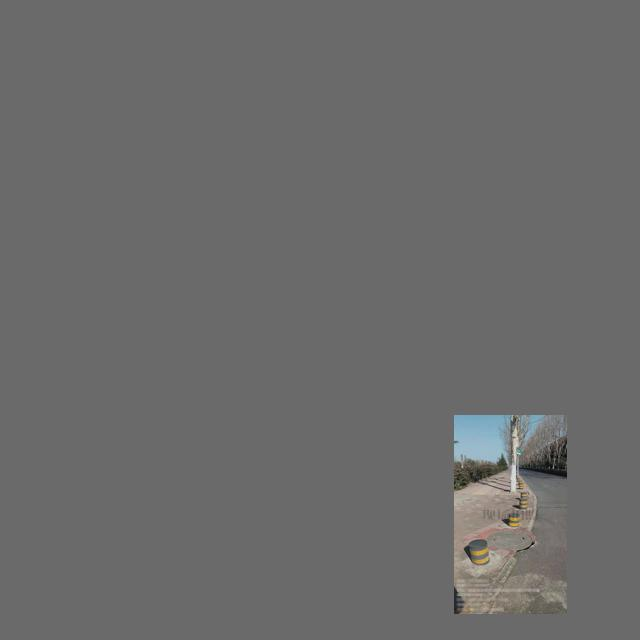circle: (484, 528, 536, 553)
